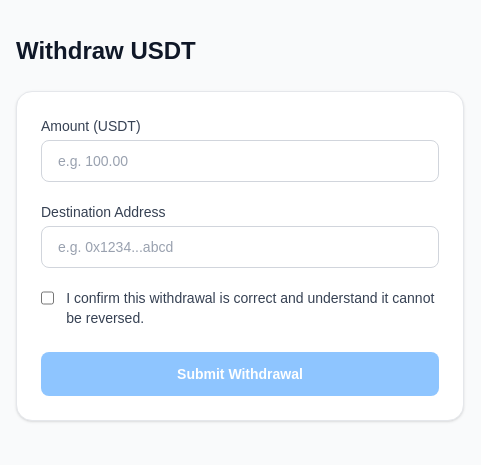
Test: WithdrawForm › happy-path: submits withdrawal and shows success
The width and height of the screenshot is (481, 465).
In the field labelled "Amount (USDT)": (240,161) [41,140,439,182], type "100"
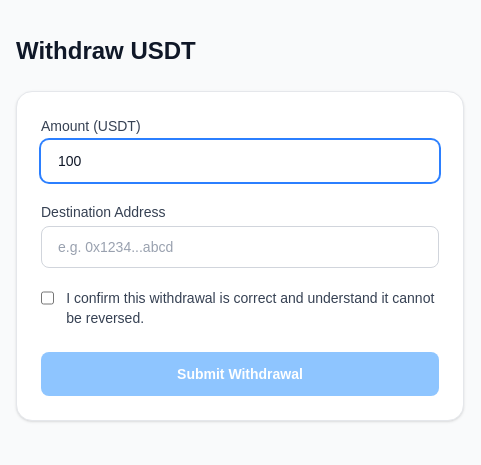
In the field labelled "Destination Address": (240,247) [41,226,439,268], type "0x1234...abcd"
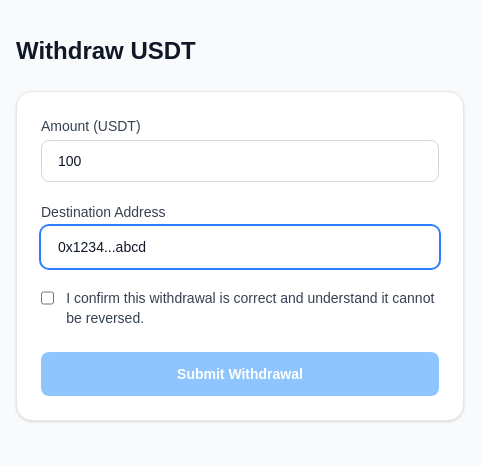
Click the checkbox labelled "confirm": (48,298) [41,290,54,306]
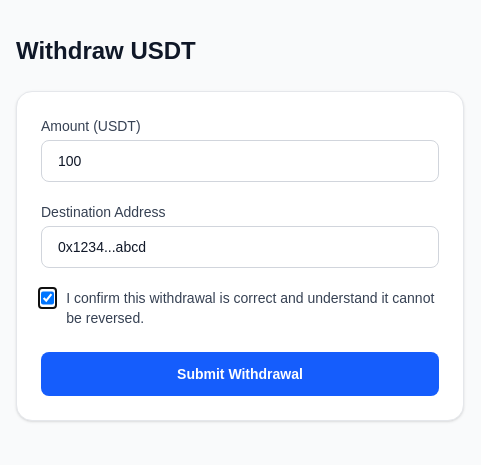
Click the button "Submit Withdrawal": (240,374) [41,352,439,396]
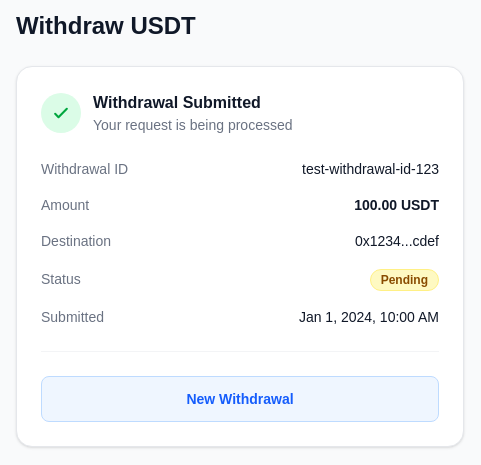
expect the heading "Withdrawal Submitted" is shown: met, box [93,94,261,110]
expect the text "test-withdrawal-id-123" is shown: met, box [302,158,439,178]
expect the text "100.00 USDT" is shown: met, box [354,194,439,214]
